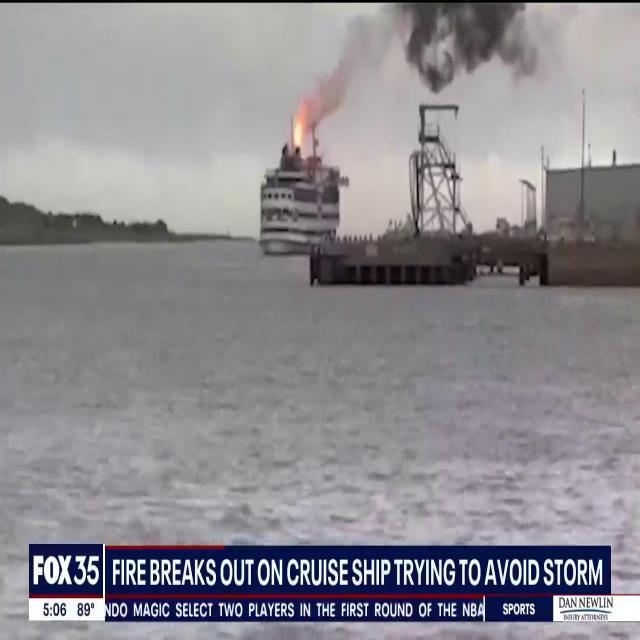Fire: (287, 102, 313, 162)
Smoke: (301, 0, 547, 128)
